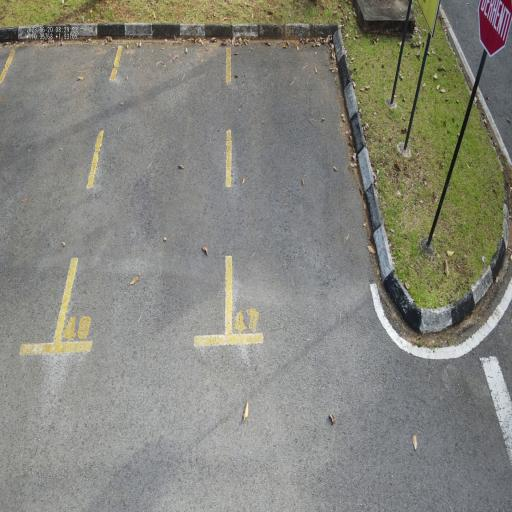Empty: (47, 30, 242, 362), (221, 26, 401, 356)
